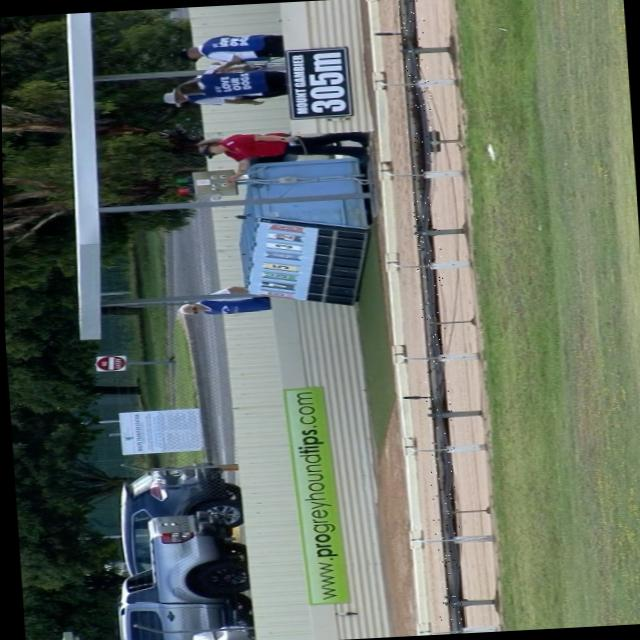rail: (399, 0, 465, 633)
